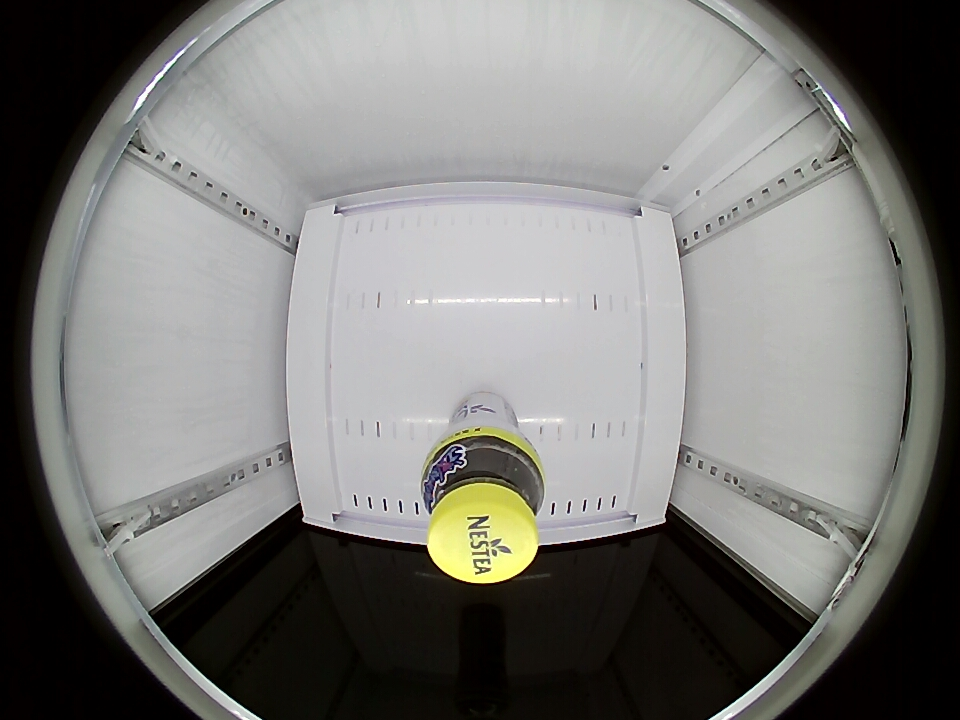chacui: (421, 434, 546, 584)
